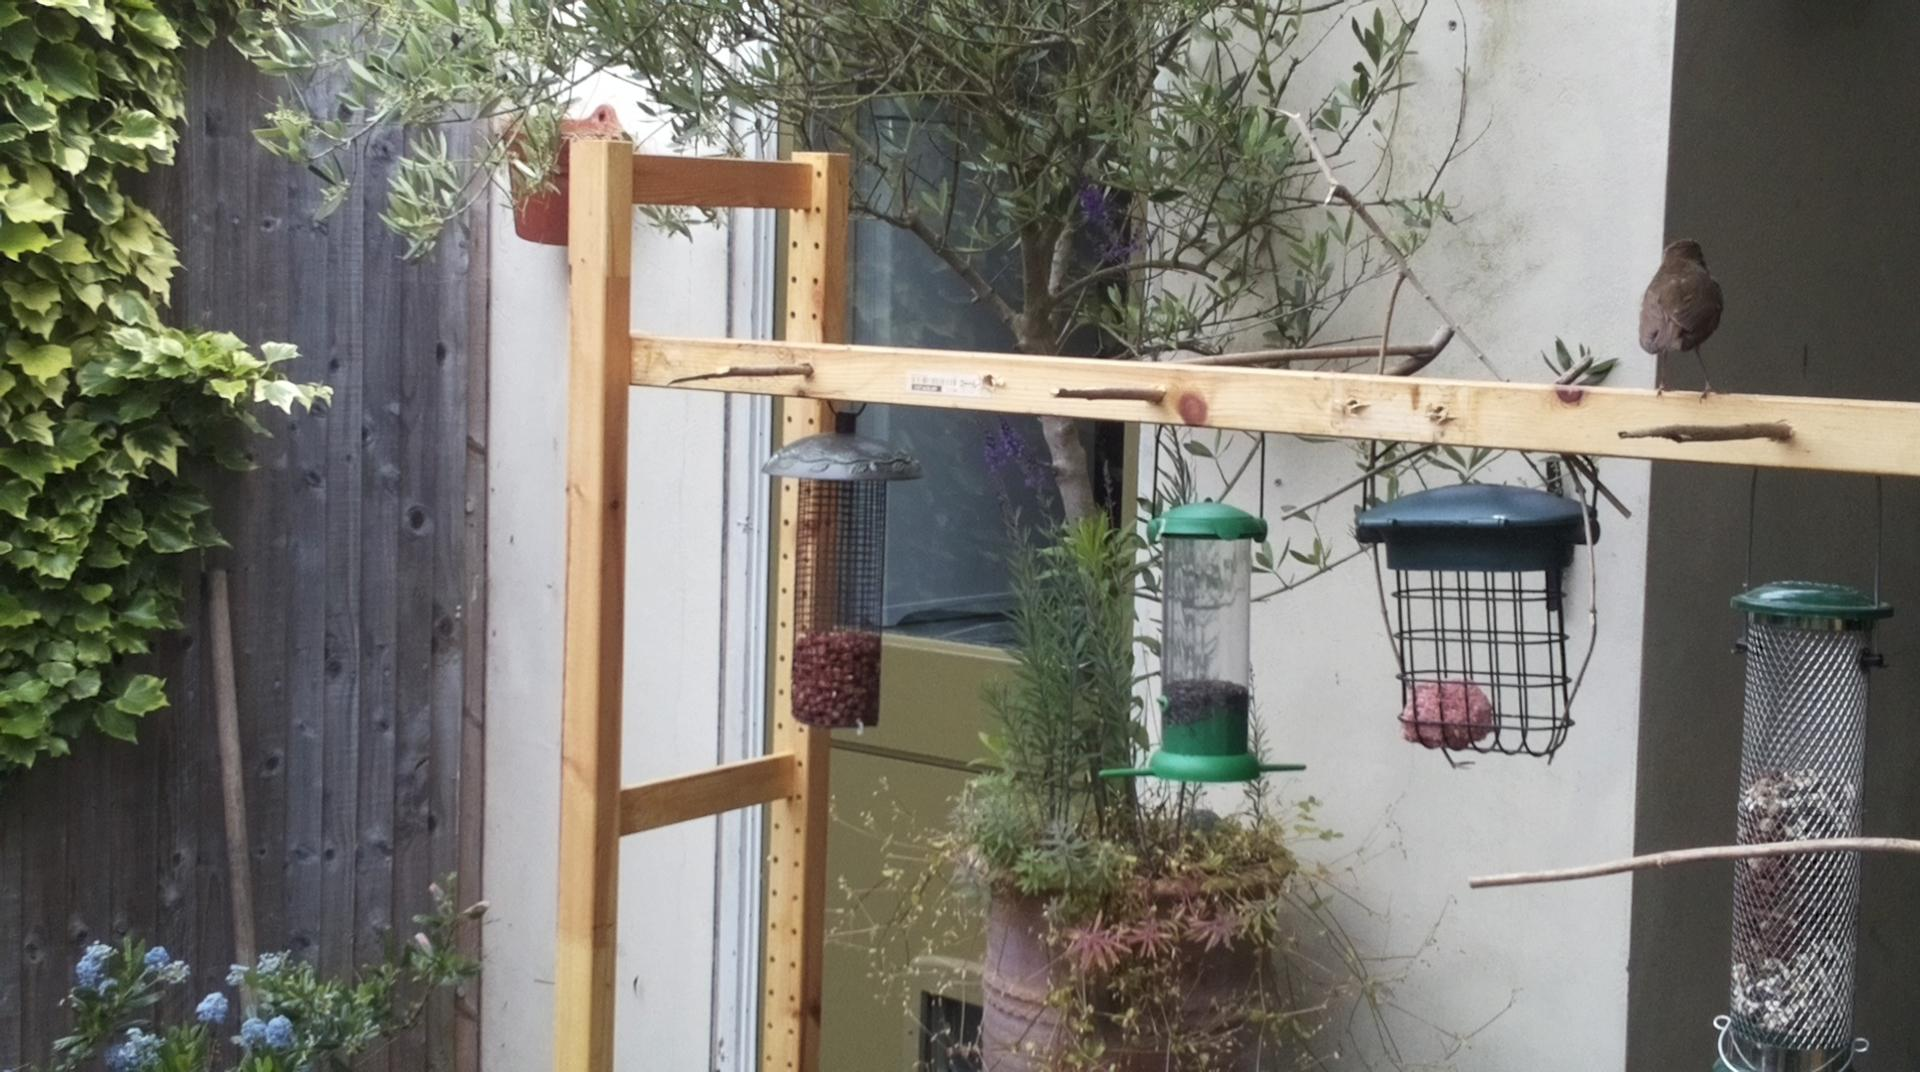robin: (1638, 237, 1724, 403)
